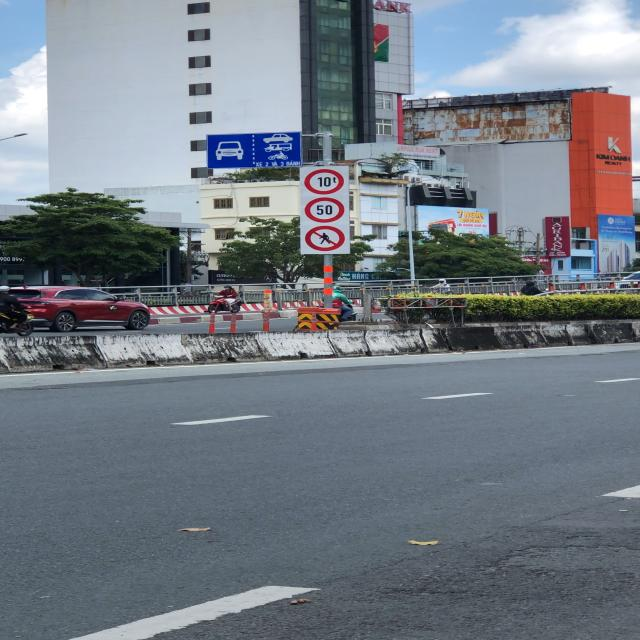Bien bao cam nguoi di bo: (302, 224, 351, 253)
Bien bao toc do toi da cho phep: (305, 197, 347, 224)
